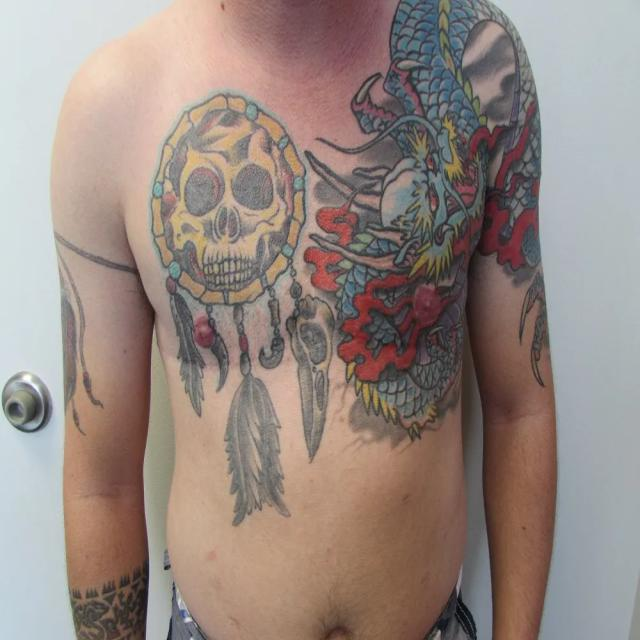Seno herido: (125, 182, 305, 384)
Seno ileso: (314, 150, 487, 362)
